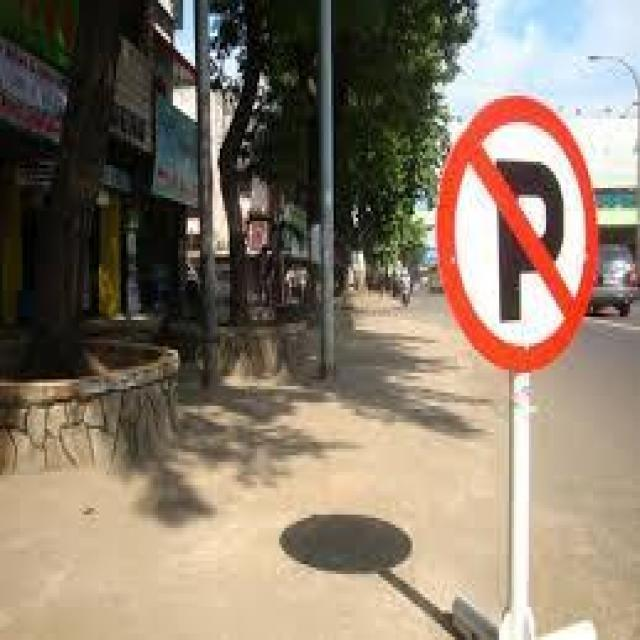traffic sign: (437, 92, 598, 372)
